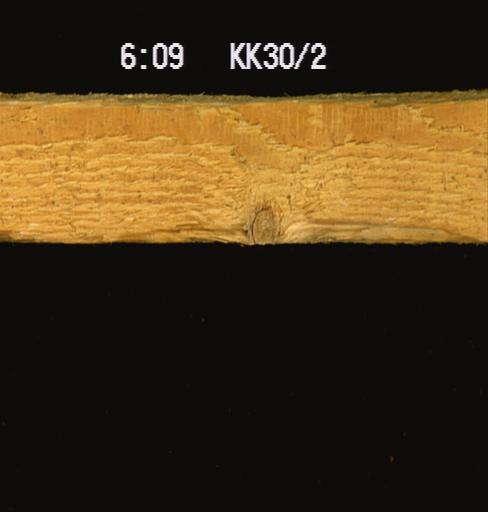sound_knot: (249, 203, 282, 243)
wave: (0, 232, 487, 244)
